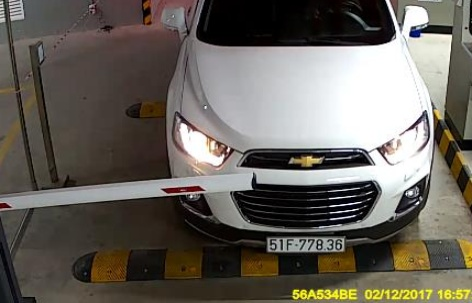plate: (262, 234, 349, 256)
